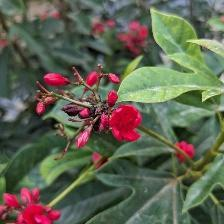jatropha: (111, 104, 145, 144), (18, 200, 53, 224)
